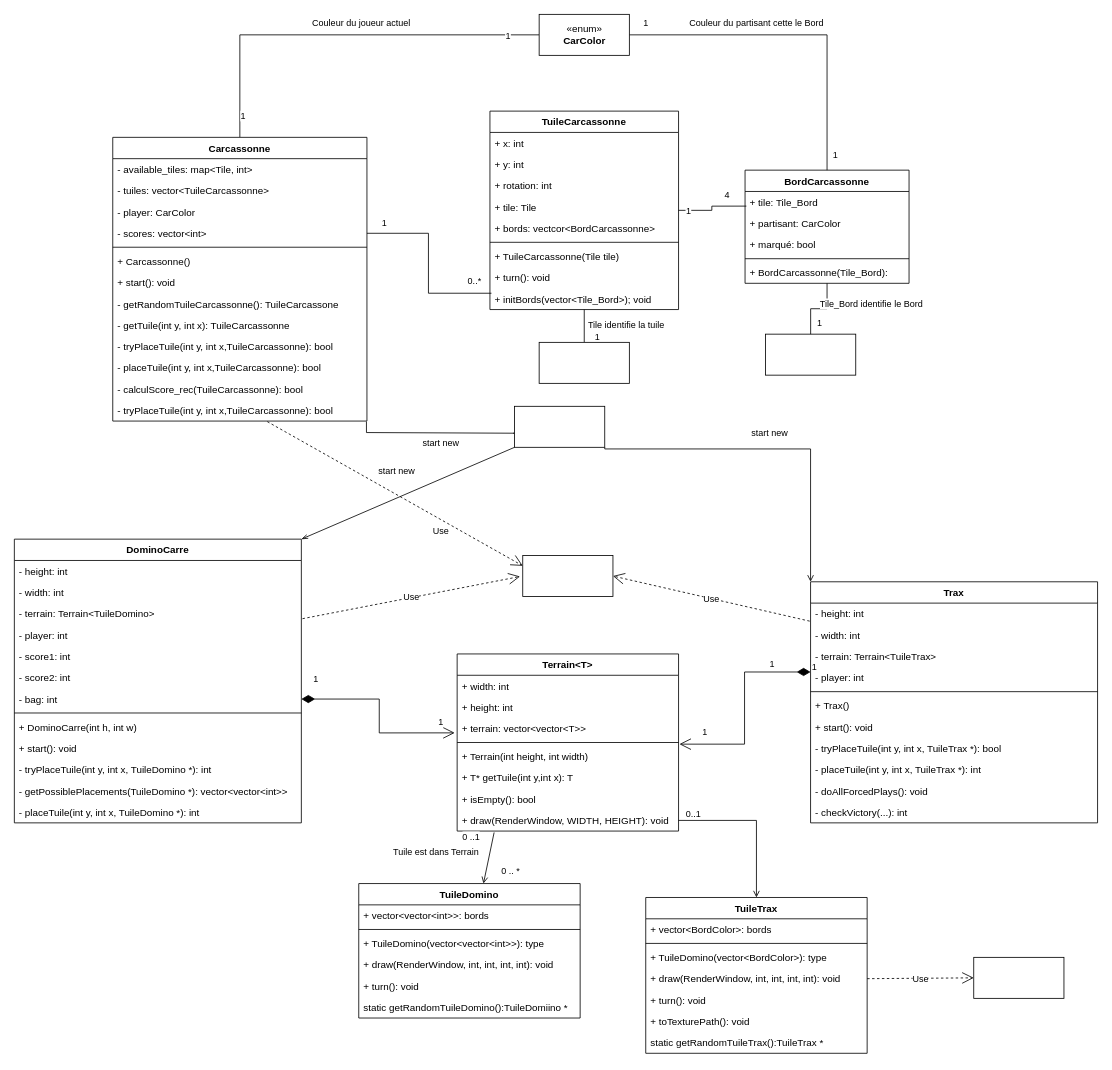
Image size: 1112x1070. Some labels were removed from this diagram. Each missing label, with the box of its shape:
Main: (514, 405, 605, 447)
«enum» BordColor: (973, 957, 1064, 998)
«enum» Direction: (522, 555, 613, 597)
«enum» Tile: (538, 342, 629, 383)
«enum» Tile_Bord: (765, 333, 856, 375)
